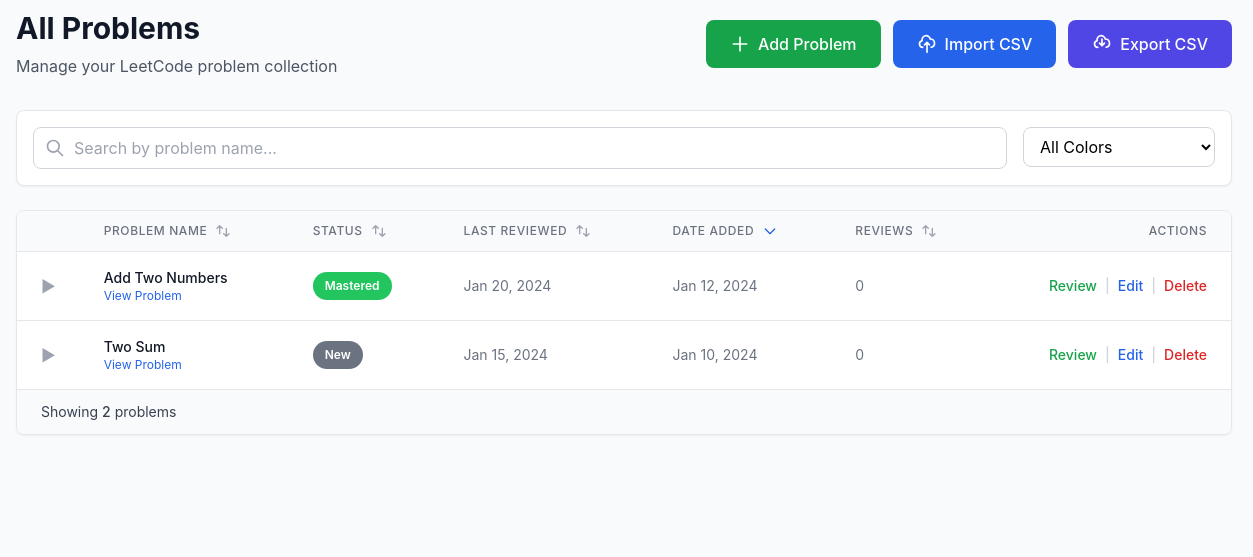
AllProblems › Export CSV Functionality › Export CSV Action › should handle export errors gracefully
Check: the text "Two Sum" is shown, box [104,338,165,355]
Click the button "Export CSV": click(1150, 44) [1068,20,1232,68]
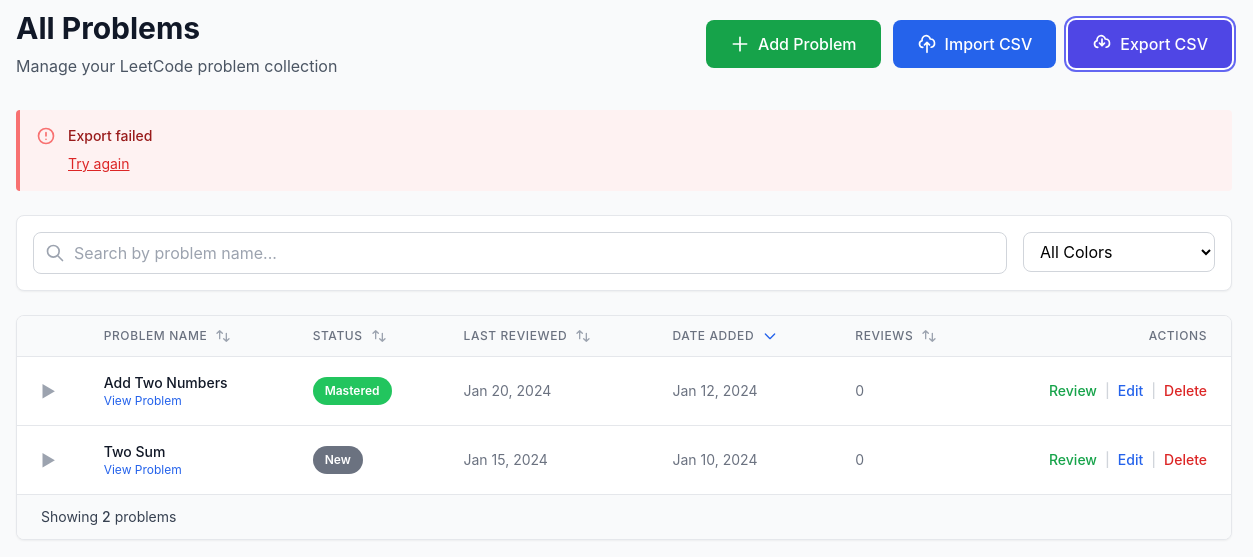
Check: the text "Export failed" is shown, box [68,126,152,146]
